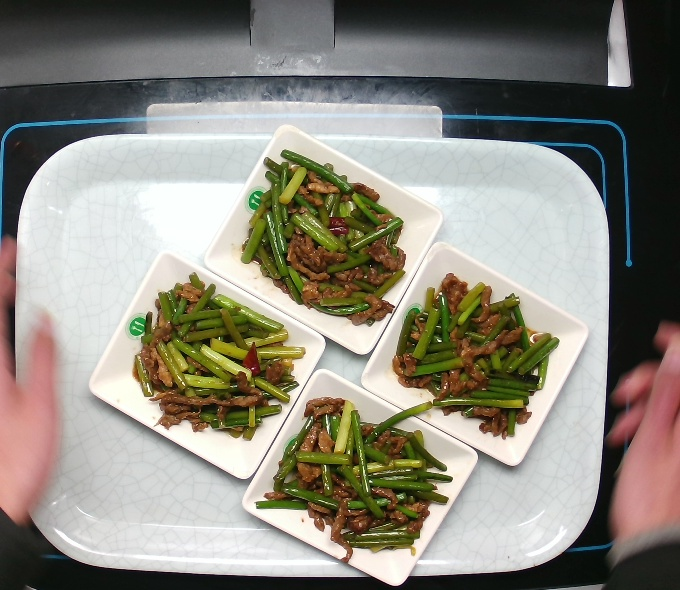wcq-SuanMiaoNiuRou: (249, 393, 458, 570), (236, 143, 415, 330), (128, 267, 312, 446), (389, 268, 567, 444)
